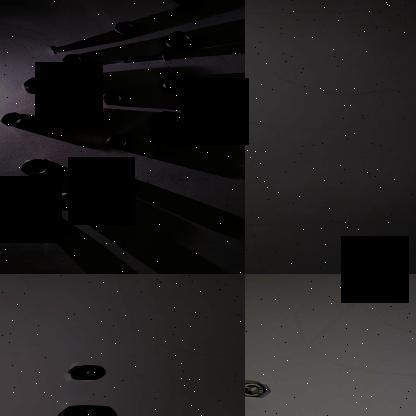Bolts: (31, 204, 64, 240), (114, 50, 172, 70), (48, 38, 100, 54), (235, 133, 245, 169)
NUTS: (52, 191, 96, 213), (15, 156, 58, 178), (158, 74, 202, 94), (59, 363, 104, 382), (162, 29, 198, 50), (20, 76, 54, 98), (45, 105, 83, 124), (53, 401, 101, 416), (151, 110, 184, 128), (104, 172, 136, 190), (245, 378, 269, 400), (112, 16, 138, 36), (102, 134, 134, 150), (150, 130, 180, 146), (0, 112, 28, 128), (199, 102, 231, 116), (59, 54, 90, 67), (166, 0, 202, 10), (96, 94, 122, 106)
